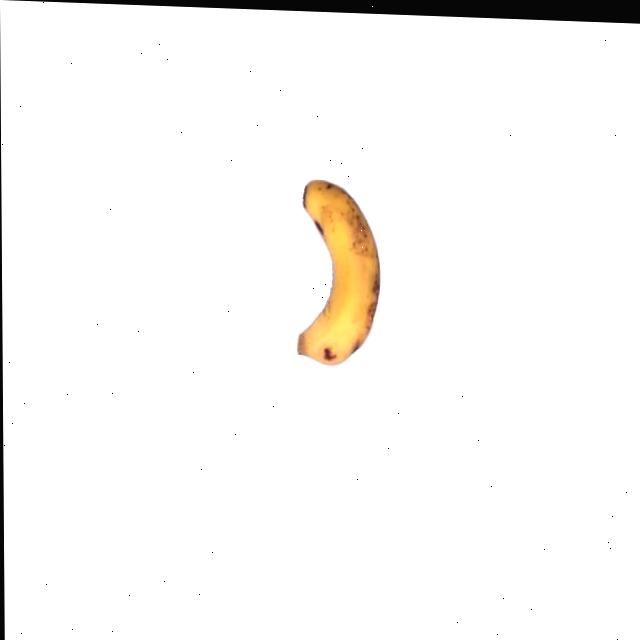banana: (294, 175, 384, 371)
